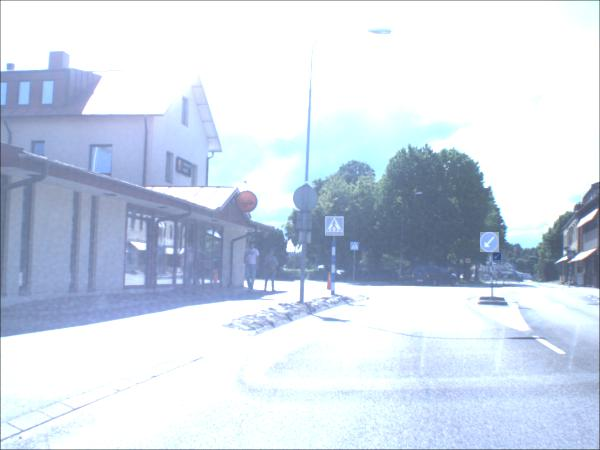50_SIGN: (465, 259, 472, 265)
PASS_RIGHT_SIDE: (480, 233, 500, 254), (493, 254, 502, 262)
PEDESTRIAN_CROSSING: (325, 217, 345, 238), (350, 243, 359, 252)
